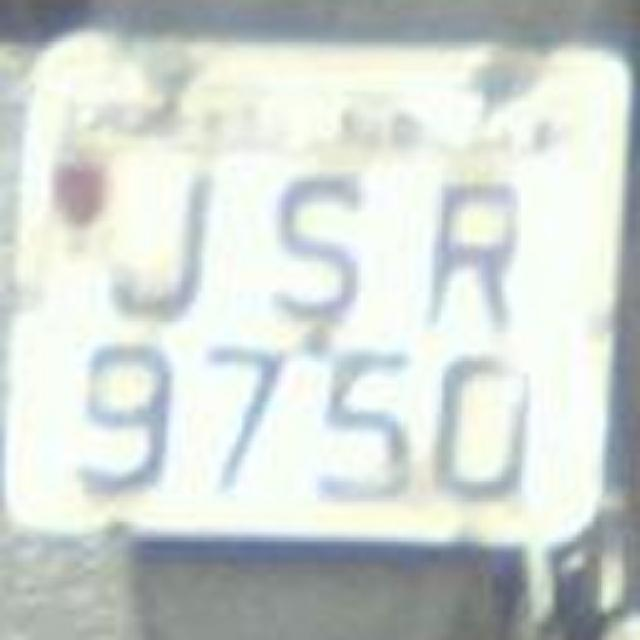0: (412, 329, 560, 516)
5: (295, 320, 440, 508)
7: (176, 324, 312, 516)
9: (52, 324, 196, 524)
J: (80, 156, 228, 336)
R: (412, 155, 540, 340)
S: (240, 160, 388, 332)
